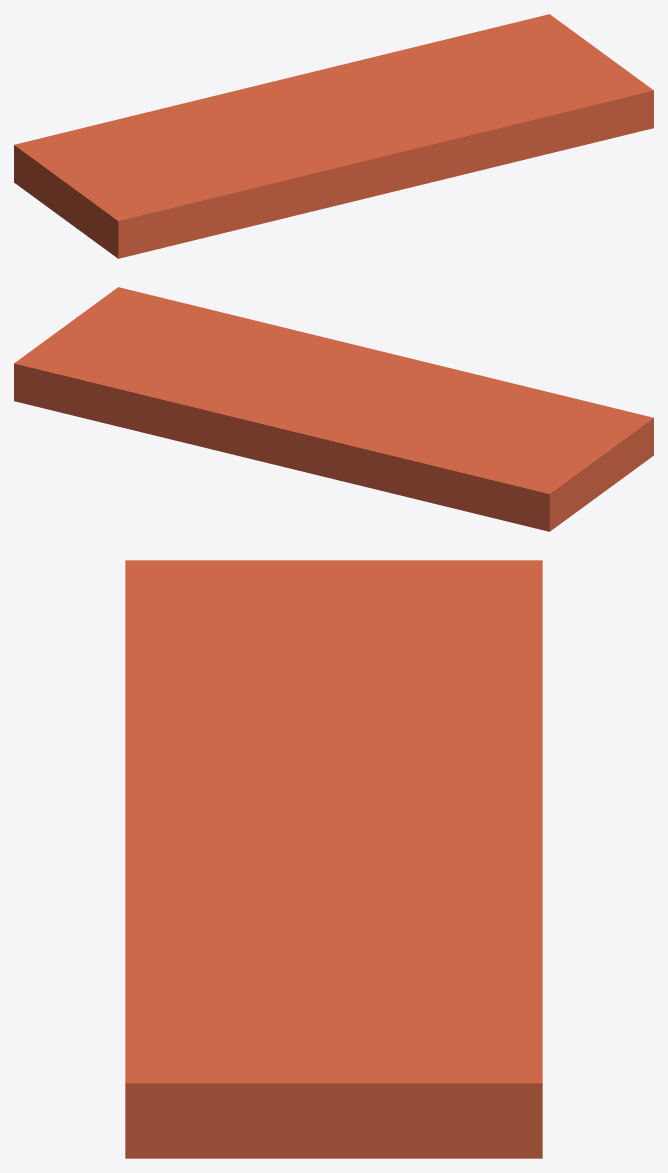
Rendered from contact-plank-transformed.glb.
3 views of the same model, one above another, from view 1: azimuth 30°, elevation 25°; view 2: azimuth 150°, elevation 25°; view 3: azimuth 270°, elevation 25° (orthographic). The views are drawn at different scales.
Visible parts, largest first — view 1: plank.001; view 2: plank.001; view 3: plank.001.
Boxes of the visible parts, bbox=[...] form: plank.001: bbox=[14, 14, 653, 258]; plank.001: bbox=[14, 287, 653, 531]; plank.001: bbox=[125, 560, 542, 1158].
Size of the model in its own units: 7.92 by 0.5328 by 2.67.
